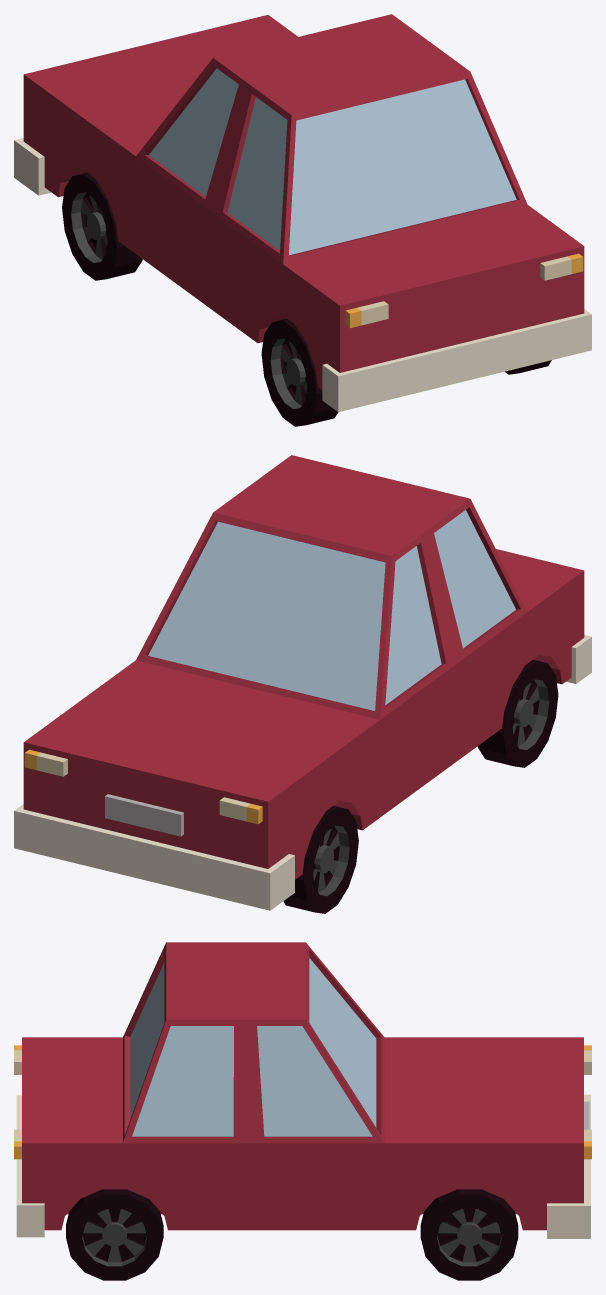
The model's file is autoForwardX.fbx.
3 views of the same model, one above another, from view 1: azimuth 30°, elevation 25°; view 2: azimuth 150°, elevation 25°; view 3: azimuth 270°, elevation 25° (orthographic). The views are drawn at different scales.
Visible parts, largest first — view 1: Cube.018; view 2: Cube.018; view 3: Cube.018.
Boxes of the visible parts, x1,y1,x2,y2 form: Cube.018: (14, 14, 591, 426); Cube.018: (14, 455, 591, 913); Cube.018: (14, 942, 591, 1280).
Size of the model in its own units: 761 by 359 by 346.
